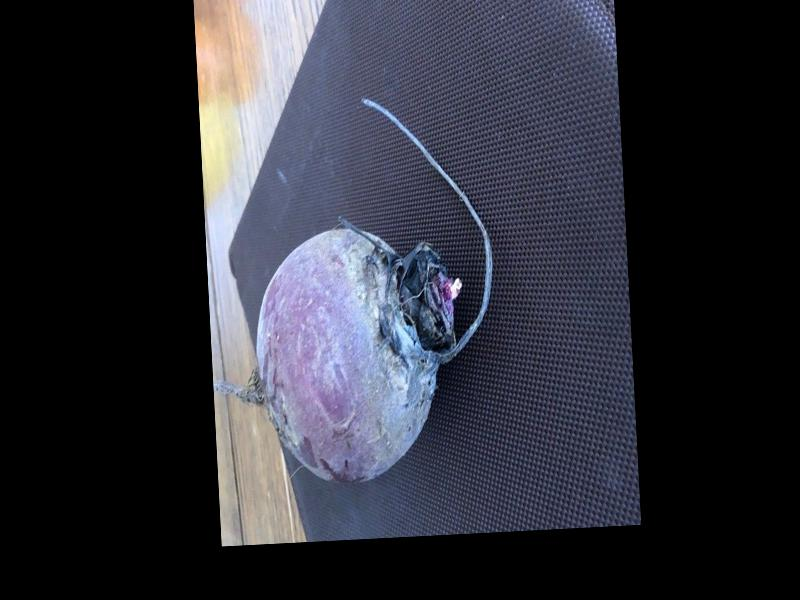Beet: (199, 91, 503, 490)
